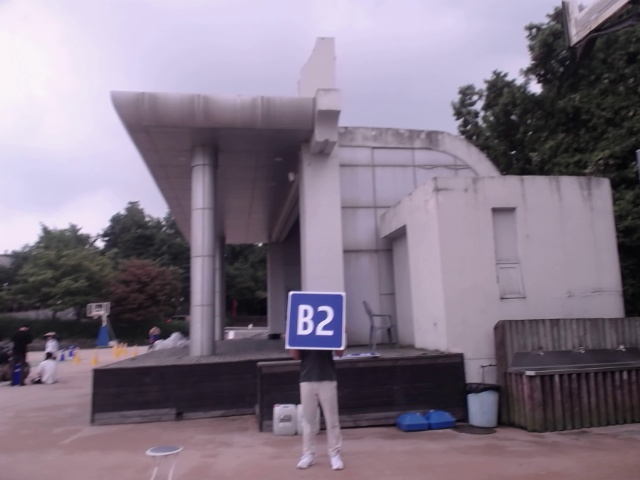delivery_b2: (287, 290, 346, 351)
